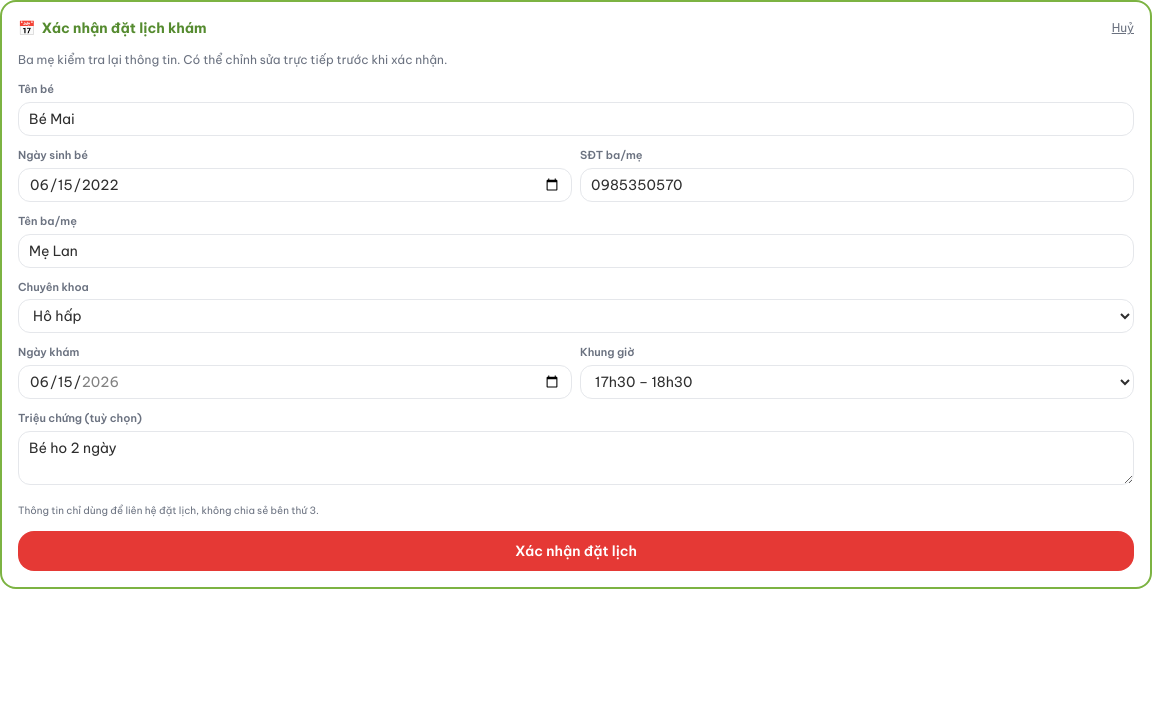
Test case: BookingConfirmCard › cho phép user edit field trước khi submit
Replace the text in the field showing "0985350570" with "0912345678" at (857, 185), box [580,168,1134,202]
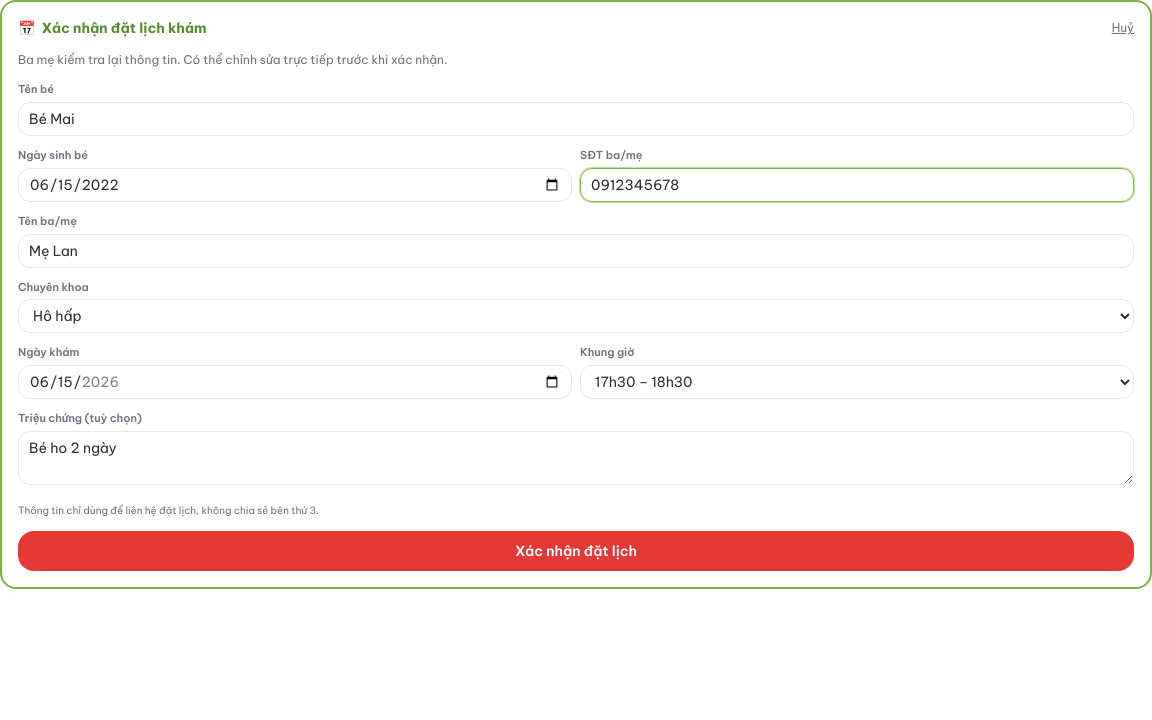
Click the button "Xác nhận đặt lịch" at (576, 551), box [18,531,1134,571]
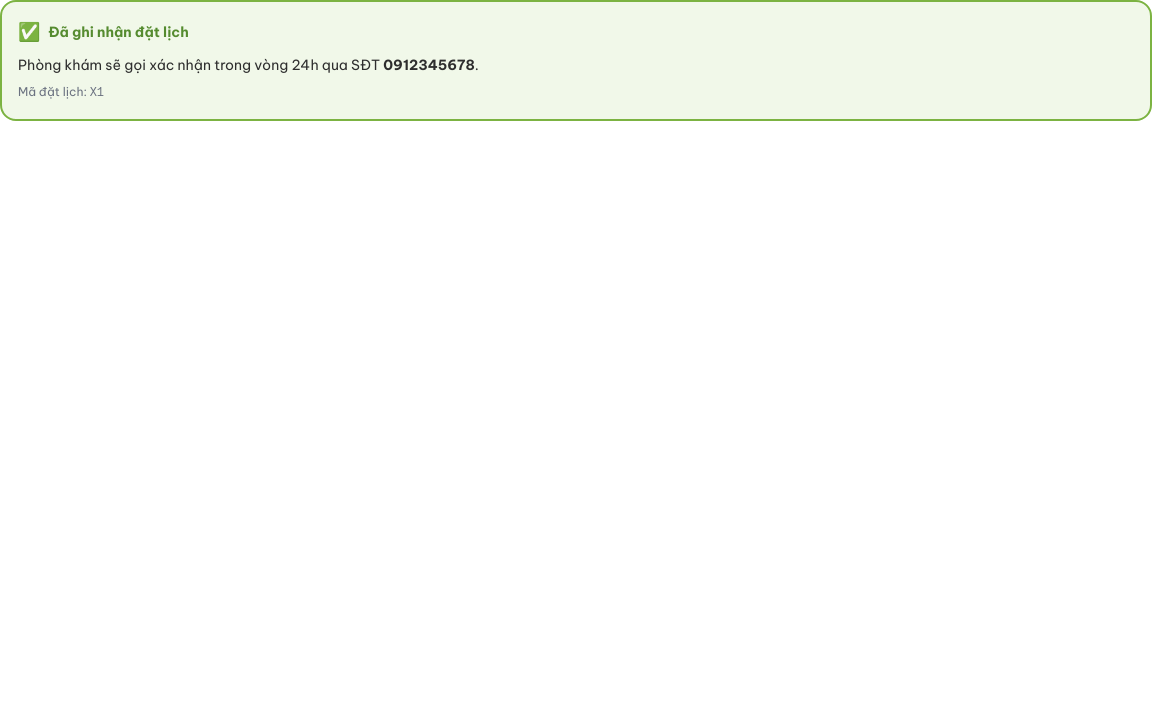
Expected: the text "✅ Đã ghi nhận đặt lịch" is shown, [18,20,189,43]
